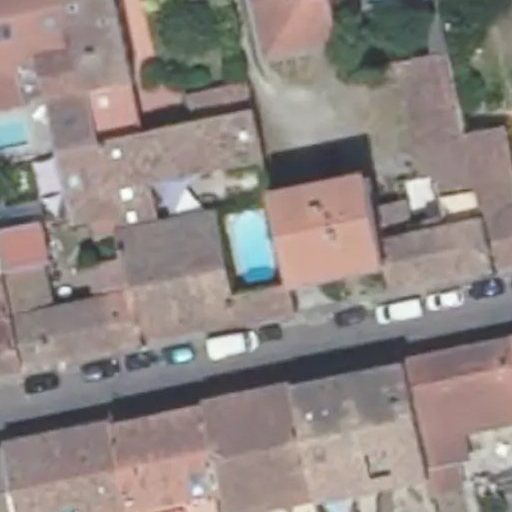pool: (225, 208, 275, 284), (1, 120, 37, 151)
